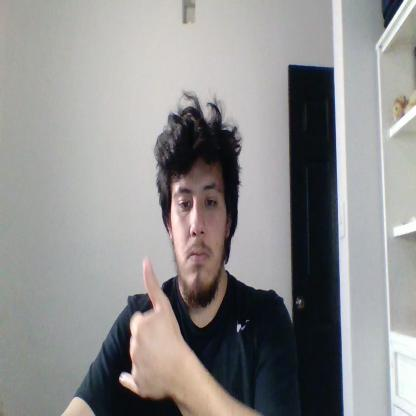Y: (119, 258, 179, 400)
